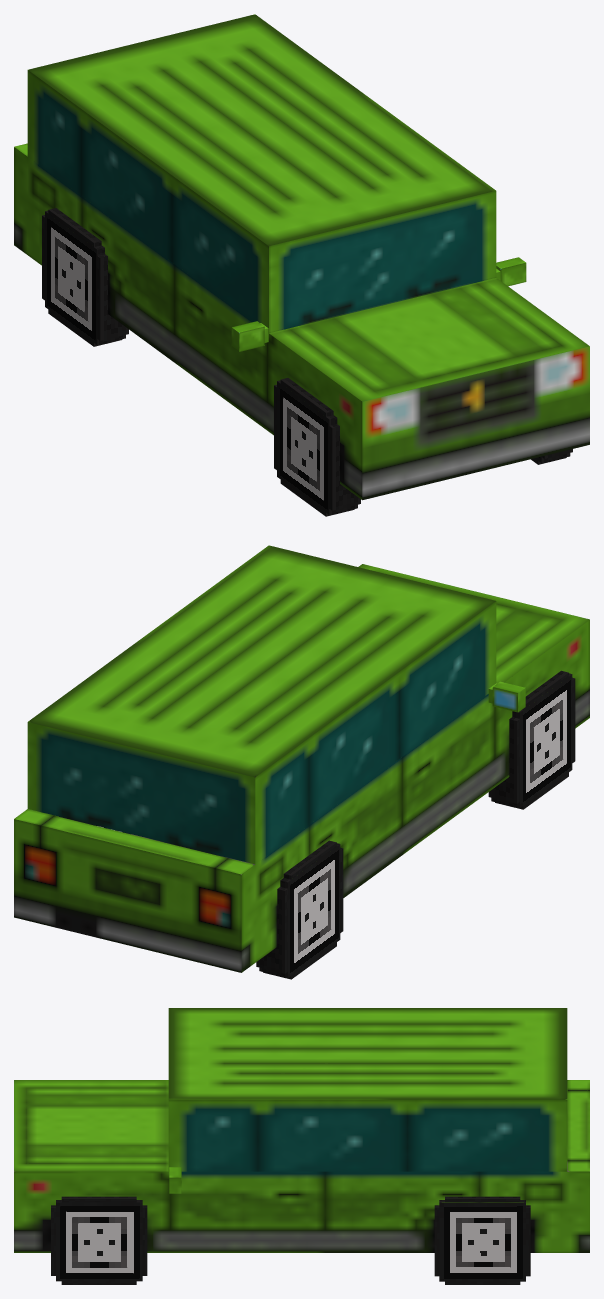
The model's file is BGN_VAZ(GREEN).fbx.
3 renders of one model, top to bottom at view 1: azimuth 30°, elevation 25°; view 2: azimuth 150°, elevation 25°; view 3: azimuth 270°, elevation 25°, orthographic. The views are drawn at different scales.
Parts seen in each view (by area): view 1: BGN_VAZ_GREEN_, F_R, R_R; view 2: BGN_VAZ_GREEN_, R_R, F_R; view 3: BGN_VAZ_GREEN_, R_L, F_L.
Part boxes in pixels (left/top/right/bottom): BGN_VAZ_GREEN_: left=14, top=14, right=589, bottom=500; F_R: left=274, top=378, right=360, bottom=516; R_R: left=42, top=208, right=128, bottom=346; BGN_VAZ_GREEN_: left=14, top=545, right=589, bottom=972; R_R: left=256, top=840, right=343, bottom=979; F_R: left=488, top=670, right=575, bottom=809; BGN_VAZ_GREEN_: left=14, top=1008, right=589, bottom=1252; R_L: left=434, top=1196, right=530, bottom=1284; F_L: left=51, top=1196, right=147, bottom=1284.
Size of the model in its own units: 187 by 138 by 394.
2 materials, 2 textured.
